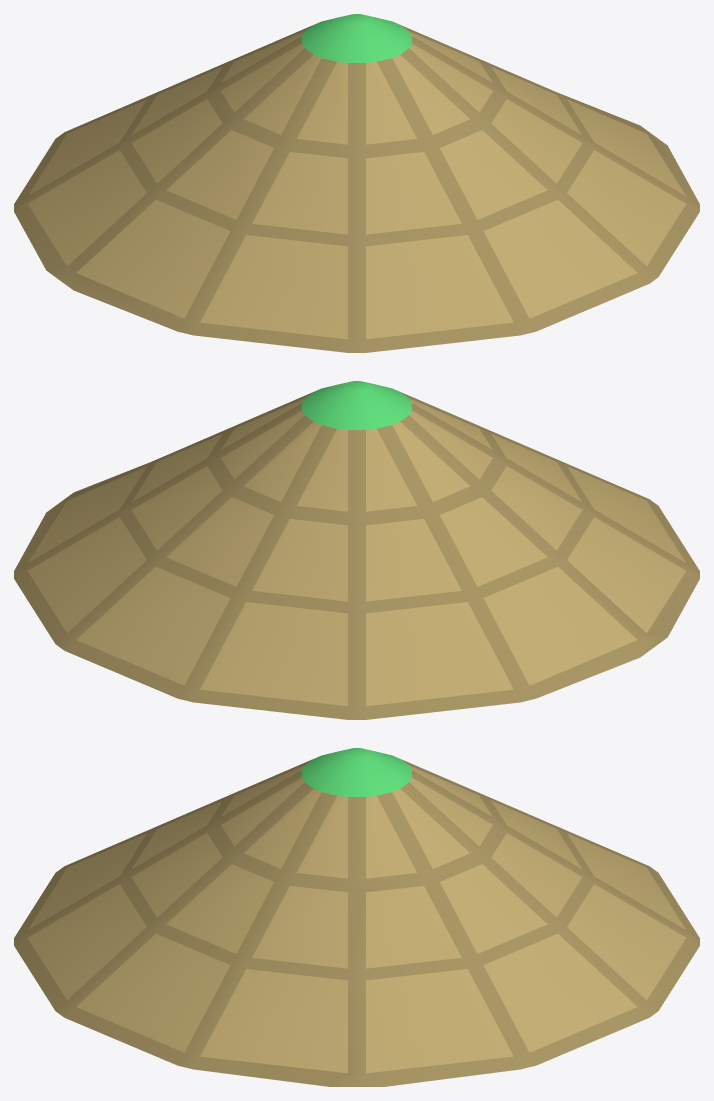
File: straw_hat.glb
The picture shows the model from 3 angles, top to bottom: view 1: azimuth 30°, elevation 25°; view 2: azimuth 150°, elevation 25°; view 3: azimuth 270°, elevation 25°; orthographic projection.
Visible parts, largest first — view 1: Cone; view 2: Cone; view 3: Cone.
Boxes of the visible parts, x1,y1,x2,y2 form: Cone: (14, 14, 699, 352); Cone: (14, 381, 699, 719); Cone: (14, 748, 699, 1086).
Bounding box in the file's own units: 1.99 × 0.6015 × 1.99.
